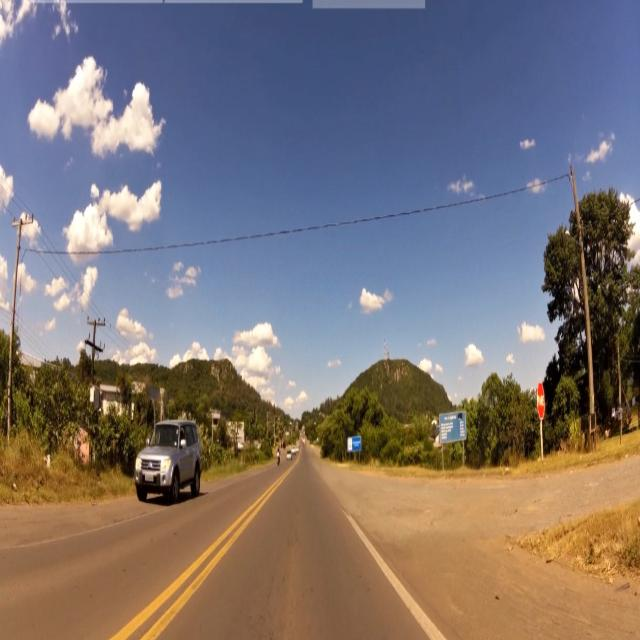R-1: (534, 383, 550, 423)
